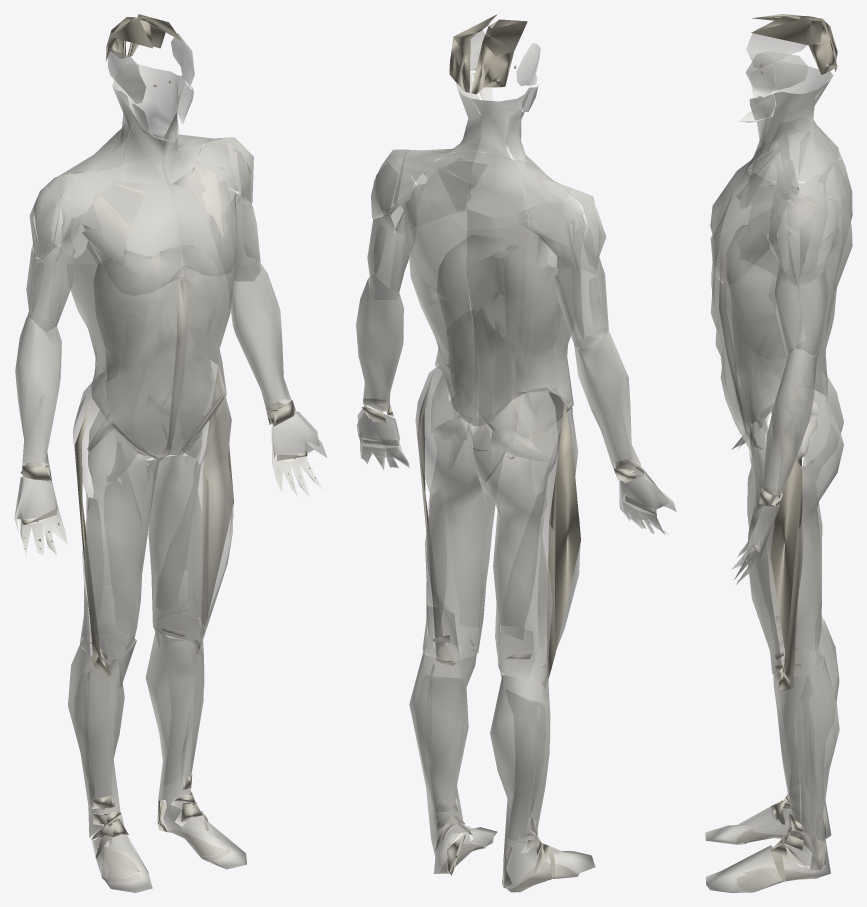
Rendered from adult_male.fascia.LOD4.glb.
3 views of the same model, side by side, from view 1: azimuth 30°, elevation 25°; view 2: azimuth 150°, elevation 25°; view 3: azimuth 270°, elevation 25° (orthographic). The views are drawn at different scales.
Parts seen in each view (by area): view 1: ADULT.MALE.FASCIA.INVESTING_ABDOMINAL_FASCIA.R, ADULT.MALE.FASCIA.FASCIA_LATA.L, ADULT.MALE.FASCIA.FASCIA_LATA.R, ADULT.MALE.FASCIA.INVESTING_ABDOMINAL_FASCIA.L, ADULT.MALE.FASCIA.TRANSVERSALIS_FASCIA, ADULT.MALE.FASCIA.CRURAL_FASCIA.L, ADULT.MALE.FASCIA.CRURAL_FASCIA.R, ADULT.MALE.FASCIA.PECTORAL_FASCIA.R, ADULT.MALE.FASCIA.DIAPHRAGMATIC_FASCIA, ADULT.MALE.FASCIA.PECTORAL_FASCIA.L, ADULT.MALE.FASCIA.SUPERFICIAL_INVESTING_CERVICAL_FASCIA.L, ADULT.MALE.FASCIA.ANTEBRACHIAL_FASCIA.L (+30 smaller); view 2: ADULT.MALE.FASCIA.FASCIA_LATA.R, ADULT.MALE.FASCIA.INVESTING_ABDOMINAL_FASCIA.R, ADULT.MALE.FASCIA.FASCIA_LATA.L, ADULT.MALE.FASCIA.CRURAL_FASCIA.R, ADULT.MALE.FASCIA.INVESTING_ABDOMINAL_FASCIA.L, ADULT.MALE.FASCIA.DIAPHRAGMATIC_FASCIA, ADULT.MALE.FASCIA.CRURAL_FASCIA.L, ADULT.MALE.FASCIA.SUPERFICIAL_INVESTING_CERVICAL_FASCIA.R, ADULT.MALE.FASCIA.SUPERFICIAL_INVESTING_CERVICAL_FASCIA.L, ADULT.MALE.FASCIA.MEDIAL_FEMORAL_INTERMUSCULAR_SEPTUM.L, ADULT.MALE.FASCIA.ILIOTIBIAL_TRACT.R, ADULT.MALE.FASCIA.ANTEBRACHIAL_FASCIA.R (+32 smaller); view 3: ADULT.MALE.FASCIA.INVESTING_ABDOMINAL_FASCIA.L, ADULT.MALE.FASCIA.CRURAL_FASCIA.L, ADULT.MALE.FASCIA.FASCIA_LATA.L, ADULT.MALE.FASCIA.SUPERFICIAL_INVESTING_CERVICAL_FASCIA.L, ADULT.MALE.FASCIA.INVESTING_ABDOMINAL_FASCIA.R, ADULT.MALE.FASCIA.ILIOTIBIAL_TRACT.L, ADULT.MALE.FASCIA.DELTOID_FASCIA.L, ADULT.MALE.FASCIA.PECTORAL_FASCIA.L, ADULT.MALE.FASCIA.ANTEBRACHIAL_FASCIA.L, ADULT.MALE.FASCIA.DIAPHRAGMATIC_FASCIA, ADULT.MALE.FASCIA.SUPERFICIAL_INVESTING_CERVICAL_FASCIA.R, ADULT.MALE.FASCIA.BRACHIAL_FASCIA.L (+26 smaller).
Boxes of the visible parts, x1,y1,x2,y2 form: ADULT.MALE.FASCIA.INVESTING_ABDOMINAL_FASCIA.R: (57,167,185,459); ADULT.MALE.FASCIA.FASCIA_LATA.L: (142,392,233,640); ADULT.MALE.FASCIA.FASCIA_LATA.R: (72,372,164,661); ADULT.MALE.FASCIA.INVESTING_ABDOMINAL_FASCIA.L: (124,146,234,455); ADULT.MALE.FASCIA.TRANSVERSALIS_FASCIA: (102,277,219,454); ADULT.MALE.FASCIA.CRURAL_FASCIA.L: (145,613,246,869); ADULT.MALE.FASCIA.CRURAL_FASCIA.R: (68,632,152,892); ADULT.MALE.FASCIA.PECTORAL_FASCIA.R: (80,180,183,295); ADULT.MALE.FASCIA.DIAPHRAGMATIC_FASCIA: (94,245,220,354); ADULT.MALE.FASCIA.PECTORAL_FASCIA.L: (168,160,236,277); ADULT.MALE.FASCIA.SUPERFICIAL_INVESTING_CERVICAL_FASCIA.L: (123,64,222,184); ADULT.MALE.FASCIA.ANTEBRACHIAL_FASCIA.L: (230,262,291,410); ADULT.MALE.FASCIA.FASCIA_LATA.R: (472,391,580,679); ADULT.MALE.FASCIA.INVESTING_ABDOMINAL_FASCIA.R: (466,209,577,439); ADULT.MALE.FASCIA.FASCIA_LATA.L: (415,365,504,659); ADULT.MALE.FASCIA.CRURAL_FASCIA.R: (490,660,595,892); ADULT.MALE.FASCIA.INVESTING_ABDOMINAL_FASCIA.L: (399,179,529,427); ADULT.MALE.FASCIA.DIAPHRAGMATIC_FASCIA: (437,235,562,356); ADULT.MALE.FASCIA.CRURAL_FASCIA.L: (409,644,497,873); ADULT.MALE.FASCIA.SUPERFICIAL_INVESTING_CERVICAL_FASCIA.R: (467,87,569,217); ADULT.MALE.FASCIA.SUPERFICIAL_INVESTING_CERVICAL_FASCIA.L: (397,72,517,209); ADULT.MALE.FASCIA.MEDIAL_FEMORAL_INTERMUSCULAR_SEPTUM.L: (447,430,487,628); ADULT.MALE.FASCIA.ILIOTIBIAL_TRACT.R: (542,401,580,688); ADULT.MALE.FASCIA.ANTEBRACHIAL_FASCIA.R: (574,331,641,469); ADULT.MALE.FASCIA.INVESTING_ABDOMINAL_FASCIA.L: (710,185,852,449); ADULT.MALE.FASCIA.CRURAL_FASCIA.L: (706,648,839,892); ADULT.MALE.FASCIA.FASCIA_LATA.L: (748,390,843,677); ADULT.MALE.FASCIA.SUPERFICIAL_INVESTING_CERVICAL_FASCIA.L: (739,78,845,204); ADULT.MALE.FASCIA.INVESTING_ABDOMINAL_FASCIA.R: (711,159,852,439); ADULT.MALE.FASCIA.ILIOTIBIAL_TRACT.L: (770,416,802,691); ADULT.MALE.FASCIA.DELTOID_FASCIA.L: (768,182,840,288); ADULT.MALE.FASCIA.PECTORAL_FASCIA.L: (710,167,773,284); ADULT.MALE.FASCIA.ANTEBRACHIAL_FASCIA.L: (763,348,817,495); ADULT.MALE.FASCIA.DIAPHRAGMATIC_FASCIA: (727,223,813,360); ADULT.MALE.FASCIA.SUPERFICIAL_INVESTING_CERVICAL_FASCIA.R: (739,61,845,179); ADULT.MALE.FASCIA.BRACHIAL_FASCIA.L: (775,262,828,357).
Bounding box in the file's own units: 0.664 × 1.7 × 0.2681.
